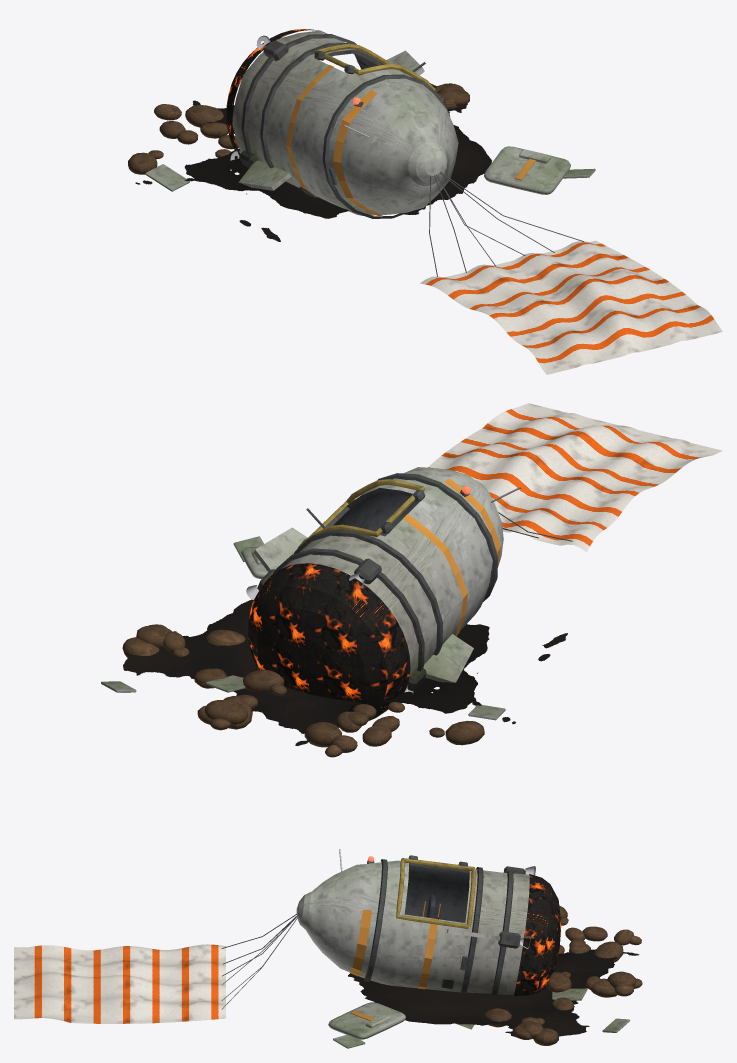
The model's file is escape_pod.glb.
3 renders of one model, top to bottom at view 1: azimuth 30°, elevation 25°; view 2: azimuth 150°, elevation 25°; view 3: azimuth 270°, elevation 25°, orthographic. The views are drawn at different scales.
Visible parts, largest first — view 1: Pod, Chute, Ground; view 2: Pod, Chute, Ground; view 3: Pod, Chute, Ground.
Part boxes in pixels (bbox=[...]): Pod: bbox=[226, 29, 458, 218]; Chute: bbox=[420, 172, 722, 374]; Ground: bbox=[128, 83, 595, 241]; Pod: bbox=[246, 467, 521, 720]; Chute: bbox=[428, 403, 722, 551]; Ground: bbox=[101, 536, 567, 757]; Pod: bbox=[296, 849, 561, 1029]; Chute: bbox=[14, 914, 297, 1023]; Ground: bbox=[328, 905, 642, 1048].
Bounding box in the file's own units: 6.94 × 3.31 × 14.05.
Materials: 14 (10 with a texture image).
